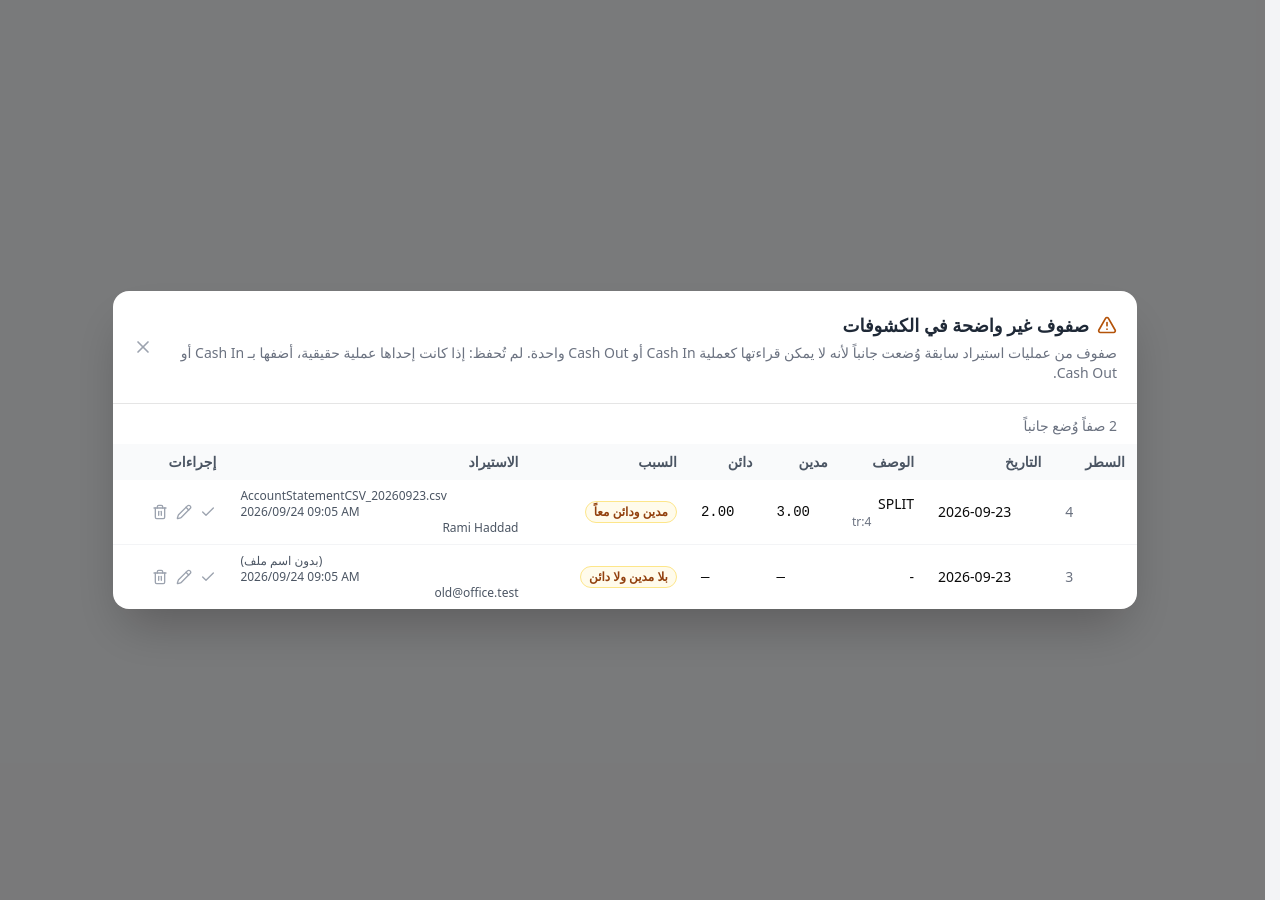
Test: row actions: accept as is, discard, or correct and add (user's request, 2026-09-29) › discard: an inline confirmation, then it's gone (and the dashboard is told, without a refresh)
expect the number of rows with test id "ambiguous-row" is 2: met, box [113,480,1137,544]; [113,544,1137,609]
Click the button with test id "ambiguous-discard" in the row of "SPLIT".
click(160, 512)  # box [152,504,168,520]
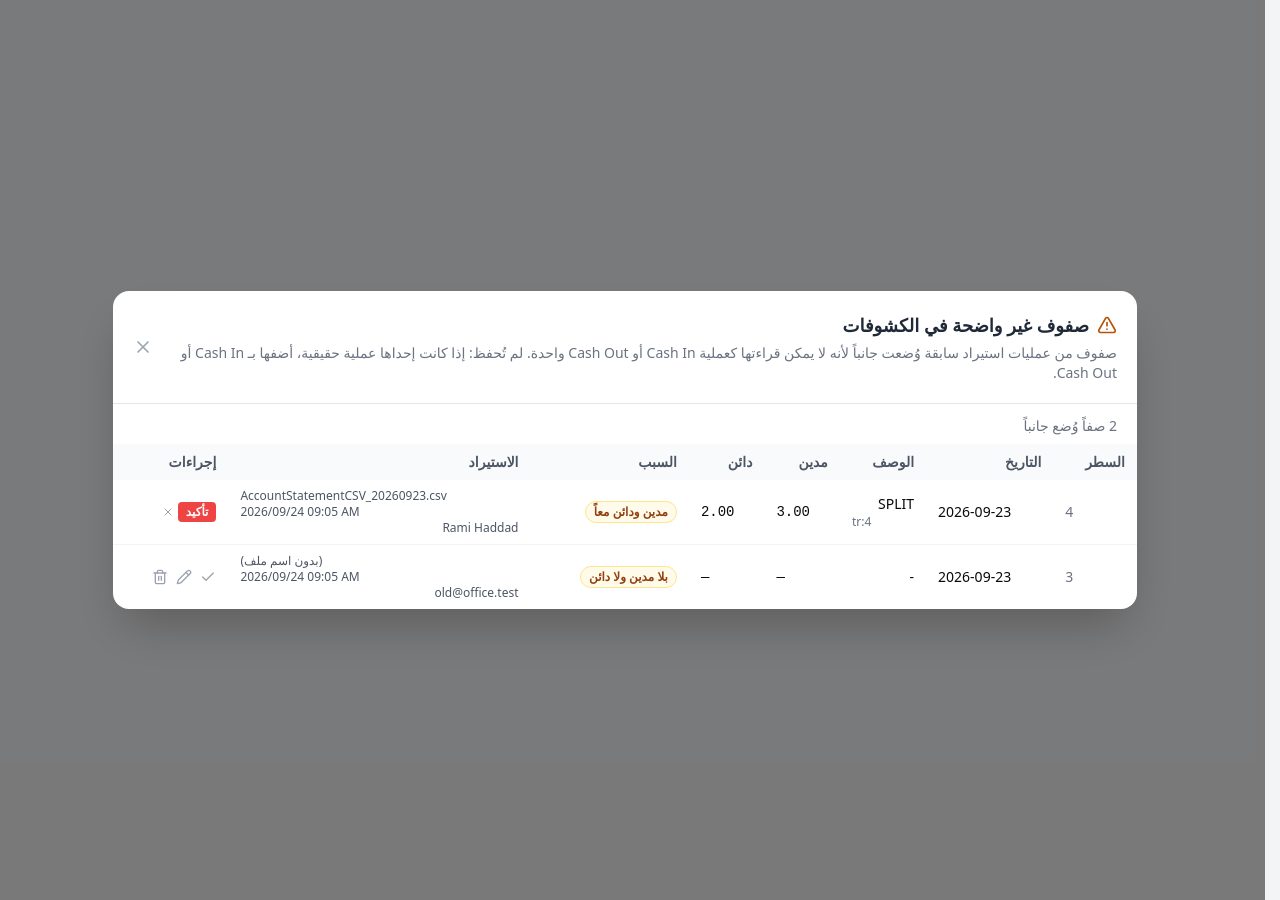
Click the button with test id "ambiguous-discard-confirm".
click(197, 512)  # box [178,502,216,522]
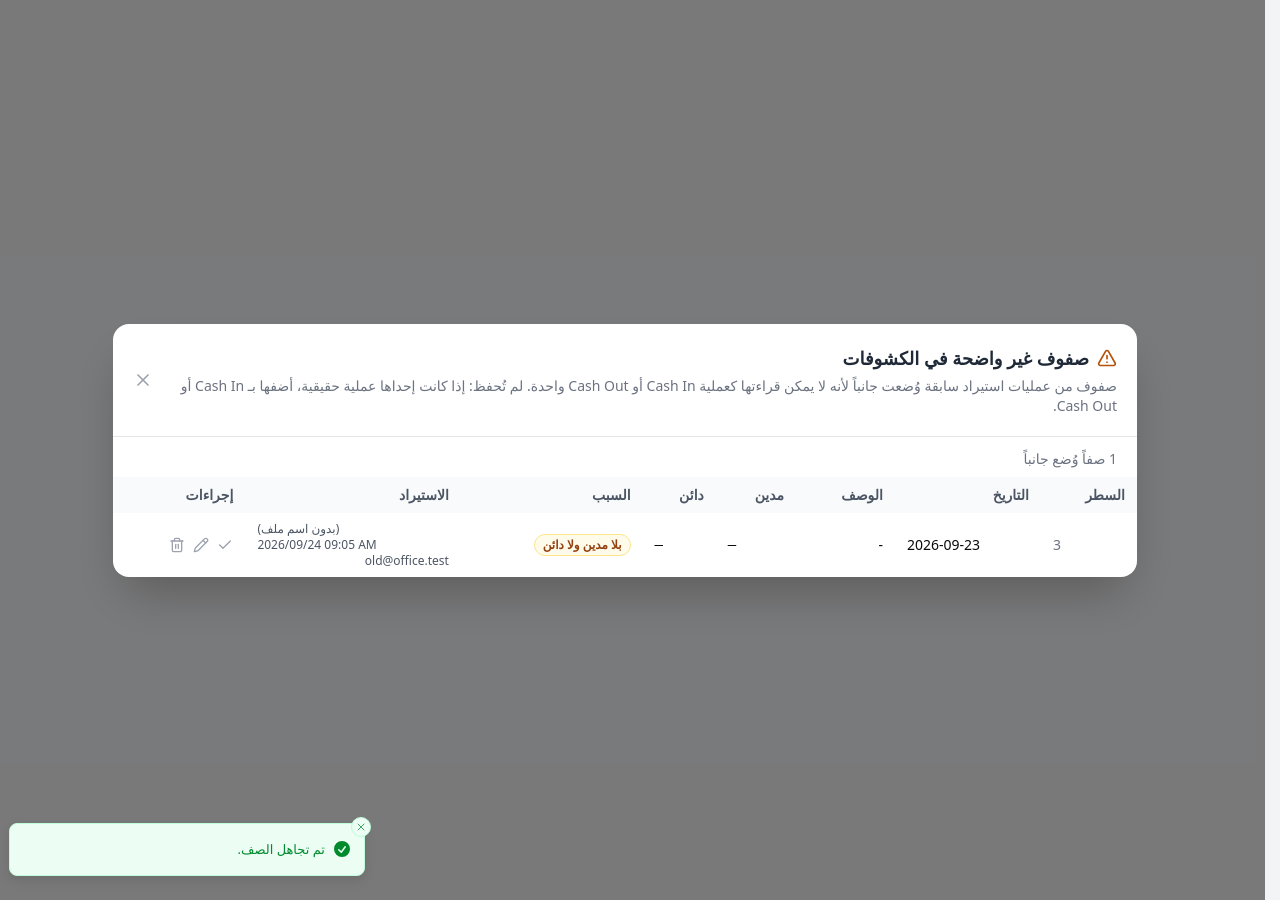
expect the number of rows with test id "ambiguous-row" is 1: met, box [113,512,1137,576]
expect the text with test id "ambiguous-count" reads "1 صفاً وُضع جانباً": met, box [1023,448,1117,468]
